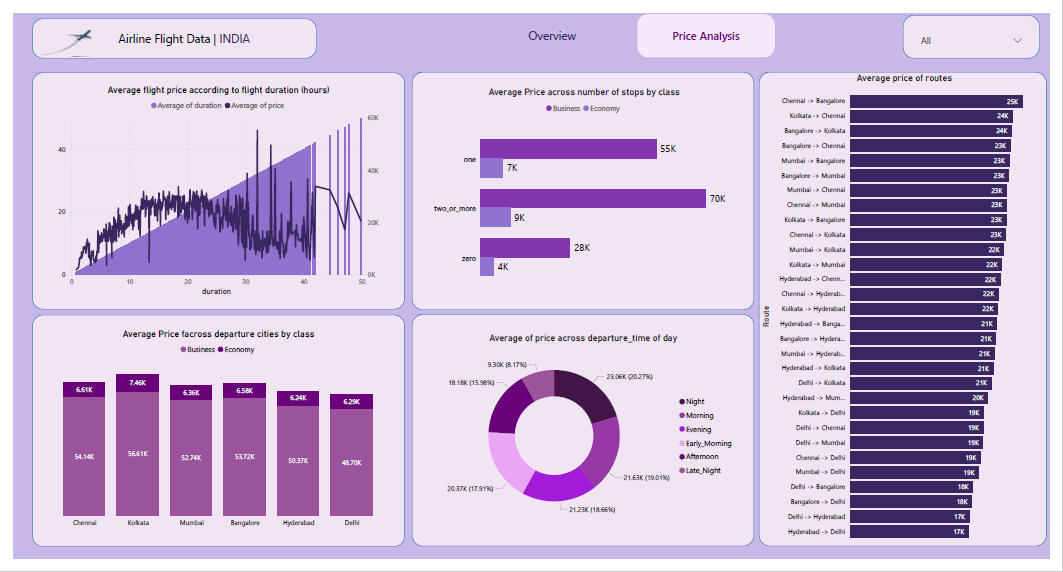

Layout of this report page (visuals, bound fields, positions):
{"tool":"powerbi","page":{"name":"Price Analysis","canvas":[1900,1000],"ordinal":1},"visuals":[{"type":"shape","box":[731.2,552.1,627.1,425],"z":0},{"type":"shape","box":[731.2,108.3,627.1,435.4],"z":1000},{"type":"shape","box":[35,108.8,682.5,433.8],"z":2000},{"type":"shape","box":[35,552.5,682.5,425],"z":3000},{"type":"shape","box":[1631.2,4.2,250,79.2],"z":4000},{"type":"shape","box":[35.4,10.4,520.8,72.9],"z":5000},{"type":"textbox","box":[187.5,27.1,287.5,39.6],"z":6000},{"type":"image","box":[35.4,0,125,108.3],"z":7000},{"type":"columnChart","title":"Average Price facross departure cities by class","fields":{"Category":["airlines_flights_data.source_city"],"Y":["Avg(airlines_flights_data.price)"],"Series":["airlines_flights_data.class"]},"box":[48.3,576.7,656.7,375],"z":8000},{"type":"shape","box":[1366.7,108.3,527.1,868.8],"z":9000},{"type":"slicer","fields":{"Values":["airlines_flights_data.airline"]},"box":[1647.5,23.8,217.5,38.8],"z":10000},{"type":"clusteredBarChart","title":"Average Price across number of stops by class","fields":{"Category":["airlines_flights_data.stops"],"Series":["airlines_flights_data.class"],"Y":["Avg(airlines_flights_data.price)"]},"box":[731.7,108.3,281.7,433.3],"z":11000},{"type":"barChart","title":"Average price of routes","fields":{"Category":["airlines_flights_data.Route"],"Y":["Avg(airlines_flights_data.price)"]},"box":[1366.7,108.3,533.3,868.8],"z":12000},{"type":"lineClusteredColumnComboChart","title":"Average flight price according to flight duration (hours)","fields":{"Category":["airlines_flights_data.duration"],"Y2":["Avg(airlines_flights_data.price)"],"Y":["Avg(airlines_flights_data.duration)"]},"box":[78.3,130,596.7,393.3],"z":13000},{"type":"donutChart","title":"Average of price across departure_time of day","fields":{"Category":["airlines_flights_data.departure_time"],"Y":["CountNonNull(airlines_flights_data.departure_time)"]},"box":[758.3,585,573.3,360],"z":14000},{"type":"pageNavigator","box":[861.7,2.1,534,79],"z":15000},{"type":"columnChart","fields":{"Category":["airlines_flights_data.departure_time"],"Y":["Avg(airlines_flights_data.price)"]},"box":[1000,108.3,378.3,435],"z":16000}]}

Visuals, with their boxes in screenshot pixels (x1, y1, x2, y2), scaled from the page's 1900x1000 canvas onto the 1063x572 screenshot:
shape: l=409, t=316, r=760, b=559
shape: l=409, t=62, r=760, b=311
shape: l=20, t=62, r=401, b=310
shape: l=20, t=316, r=401, b=559
shape: l=913, t=2, r=1052, b=48
shape: l=20, t=6, r=311, b=48
textbox: l=105, t=16, r=266, b=38
image: l=20, t=0, r=90, b=62
"Average Price facross departure cities by class" columnChart: l=27, t=330, r=394, b=544
shape: l=765, t=62, r=1060, b=559
slicer - airlines_flights_data.airline: l=922, t=14, r=1043, b=36
"Average Price across number of stops by class" clusteredBarChart: l=409, t=62, r=567, b=310
"Average price of routes" barChart: l=765, t=62, r=1062, b=559
"Average flight price according to flight duration (hours)" lineClusteredColumnComboChart: l=44, t=74, r=378, b=299
"Average of price across departure_time of day" donutChart: l=424, t=335, r=745, b=541
pageNavigator: l=482, t=1, r=781, b=46
columnChart - airlines_flights_data.departure_time x Avg(airlines_flights_data.price): l=559, t=62, r=771, b=311
